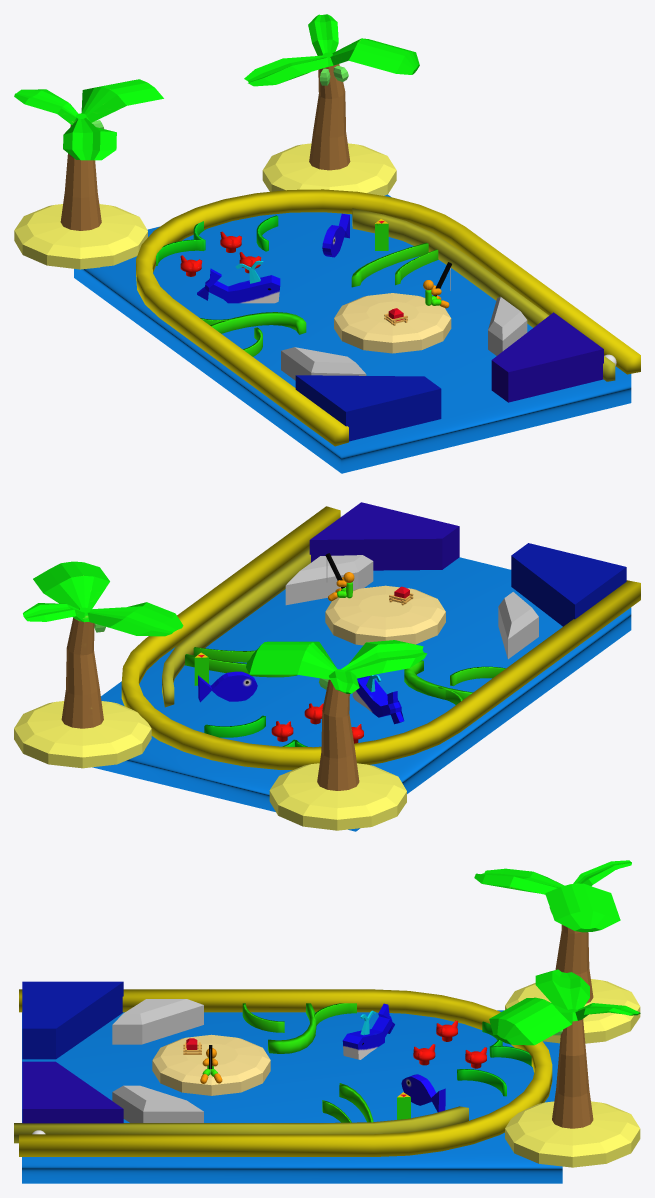
The model's file is pin3DenwVERNNG.fbx.
The picture shows the model from 3 angles, top to bottom: view 1: azimuth 30°, elevation 25°; view 2: azimuth 150°, elevation 25°; view 3: azimuth 270°, elevation 25°; orthographic projection. The views are drawn at different scales.
Visible parts, largest first — view 1: Cube, Scle, Cylinder.006, Cylinder.005, Cube.002, Cube.001, Cylinder.007, Scle.001, Cube.003, Cube.006, Cube.005, Scle.009 (+2 smaller); view 2: Cube, Scle, Cylinder.005, Cylinder.006, Cube.001, Cube.002, Cylinder.007, Scle.001, Cube.005, Cube.006, Cube.003, Cube.018 (+5 smaller); view 3: Cube, Scle, Cylinder.005, Cylinder.006, Cube.002, Scle.001, Cylinder.007, Cube.001, Cube.006, Cube.005, Cube.003, Cube.018 (+6 smaller).
Boxes of the visible parts, x1,y1,x2,y2 form: Cube: [74, 194, 631, 473]; Scle: [136, 189, 640, 446]; Cylinder.006: [14, 79, 163, 269]; Cylinder.005: [244, 14, 419, 195]; Cube.002: [295, 375, 441, 441]; Cube.001: [491, 312, 603, 402]; Cylinder.007: [334, 293, 451, 353]; Scle.001: [352, 208, 615, 381]; Cube.003: [197, 260, 280, 303]; Cube.006: [281, 347, 366, 380]; Cube.005: [488, 297, 527, 355]; Scle.009: [210, 312, 306, 334]; Cube: [92, 557, 631, 831]; Scle: [121, 506, 640, 770]; Cylinder.005: [14, 561, 183, 768]; Cylinder.006: [246, 640, 427, 830]; Cube.001: [309, 502, 459, 570]; Cube.002: [511, 543, 626, 626]; Cylinder.007: [325, 585, 445, 645]; Scle.001: [162, 547, 310, 707]; Cube.005: [285, 555, 373, 605]; Cube.006: [498, 592, 538, 659]; Cube.003: [352, 675, 404, 724]; Cube.018: [198, 671, 257, 702]; Cube: [22, 1010, 562, 1183]; Scle: [19, 989, 552, 1156]; Cylinder.005: [489, 969, 640, 1167]; Cylinder.006: [474, 860, 640, 1043]; Cube.002: [22, 981, 123, 1059]; Scle.001: [14, 1106, 468, 1143]; Cylinder.007: [152, 1034, 270, 1095]; Cube.001: [22, 1061, 123, 1123]; Cube.006: [112, 999, 203, 1044]; Cube.005: [112, 1085, 203, 1122]; Cube.003: [342, 1003, 394, 1059]; Cube.018: [401, 1074, 445, 1112].
Bounding box in the file's own units: 2581 × 1155 × 3710.
